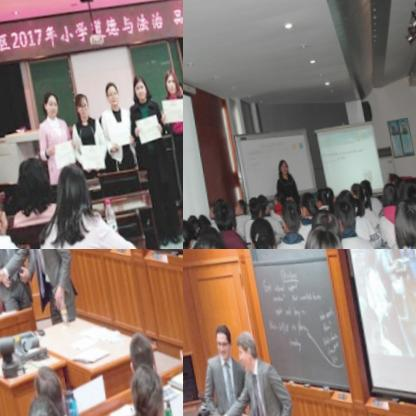head: (120, 361, 169, 416), (23, 358, 65, 416), (47, 163, 87, 215), (118, 326, 154, 382), (10, 154, 48, 205), (292, 219, 346, 249), (385, 198, 416, 246), (232, 329, 263, 377), (306, 206, 339, 249), (240, 213, 276, 249), (12, 393, 62, 416), (274, 198, 301, 240), (327, 197, 354, 237), (208, 323, 233, 361), (207, 200, 231, 236), (183, 232, 233, 249), (291, 191, 315, 223), (375, 183, 397, 214), (36, 89, 57, 120), (395, 181, 416, 209), (98, 80, 118, 109), (125, 76, 145, 105), (156, 69, 176, 97), (335, 186, 353, 214), (310, 188, 328, 215), (67, 94, 88, 117), (379, 168, 398, 193), (249, 191, 267, 217), (242, 195, 258, 220), (353, 175, 369, 200), (318, 184, 333, 210), (345, 182, 361, 206), (183, 215, 192, 249), (265, 192, 280, 210), (228, 199, 242, 218), (273, 159, 285, 177)
